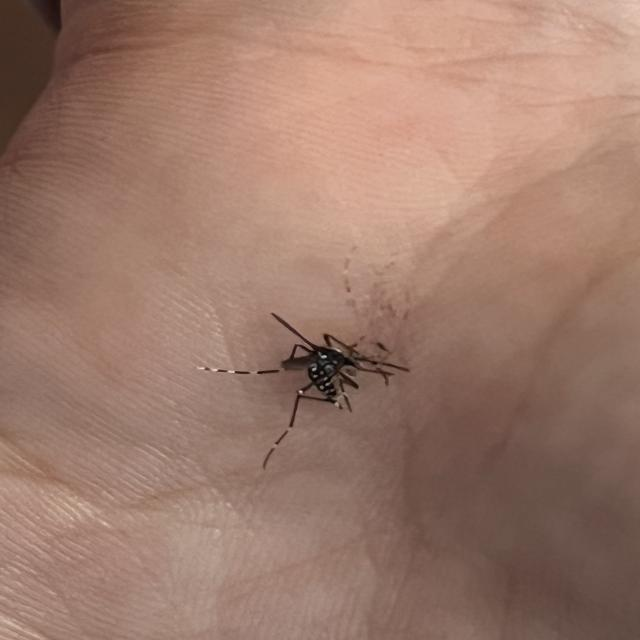albopictus: (190, 301, 412, 475)
